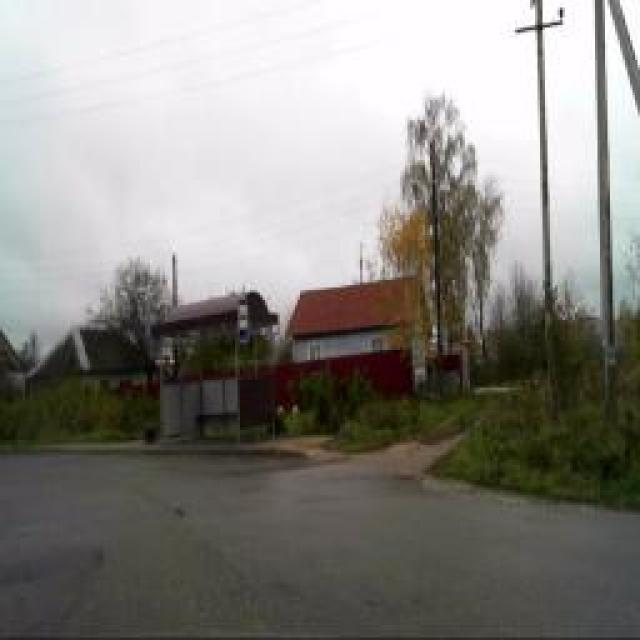sign: (238, 298, 250, 342)
